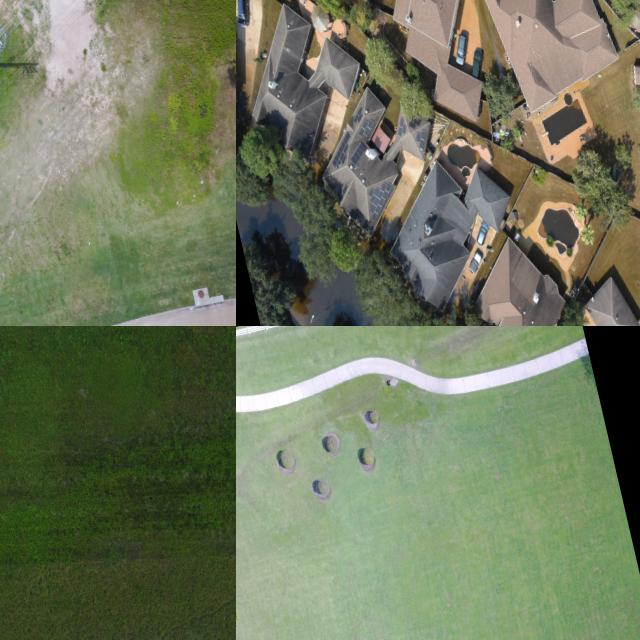fire: (290, 270, 376, 326), (236, 199, 300, 255)
